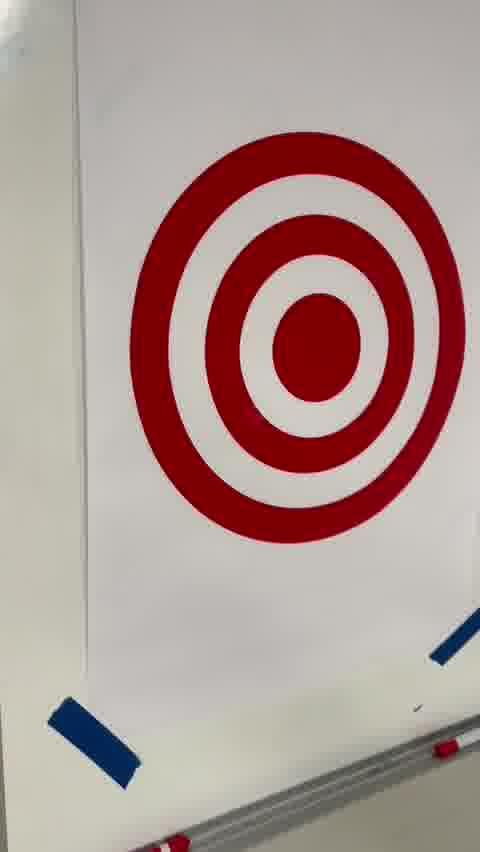target_red: (126, 134, 469, 544)
